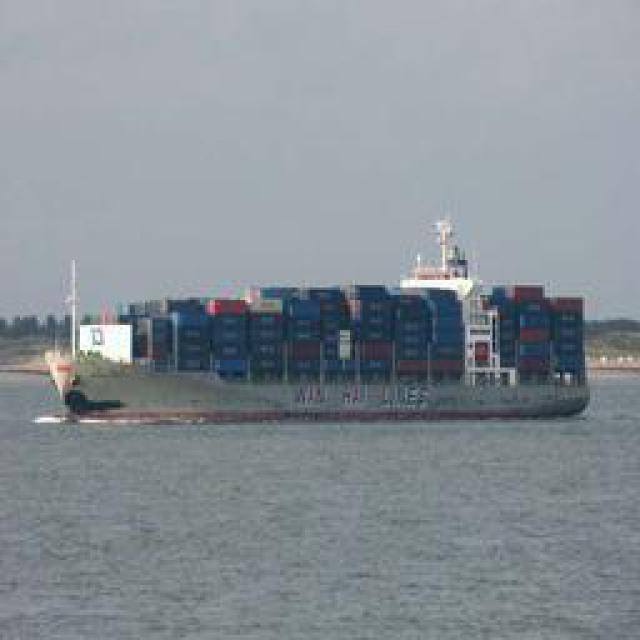Ship: (26, 204, 606, 434)
